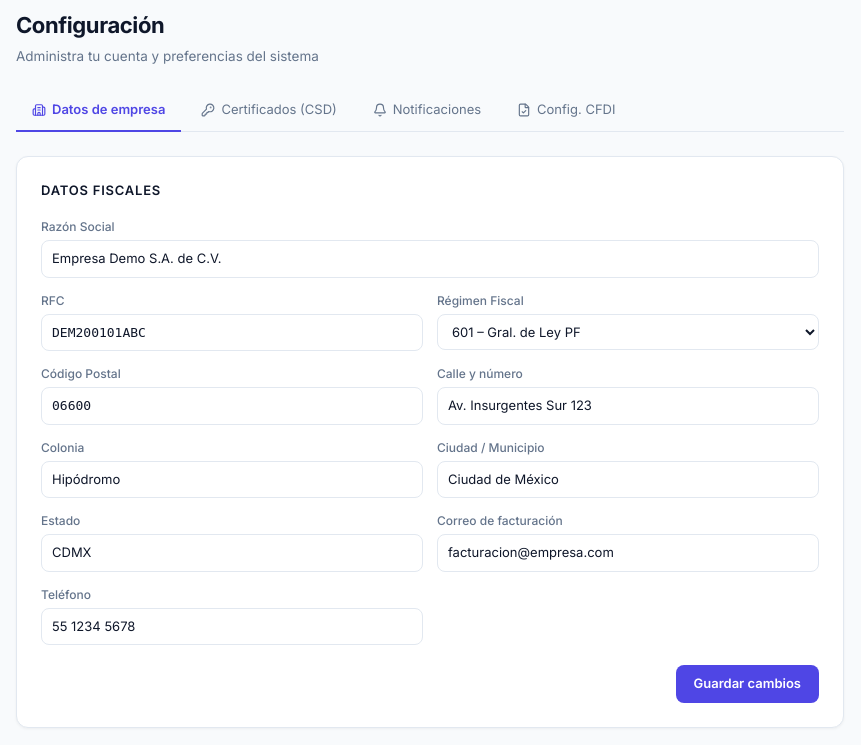
Test case: Configuracion - certificados › muestra el RFC real de la empresa y el badge "Sin certificado" cuando csdStatus es sin_registrar
Click the button "Certificados (CSD)" at (269, 111), box [185,90,353,132]
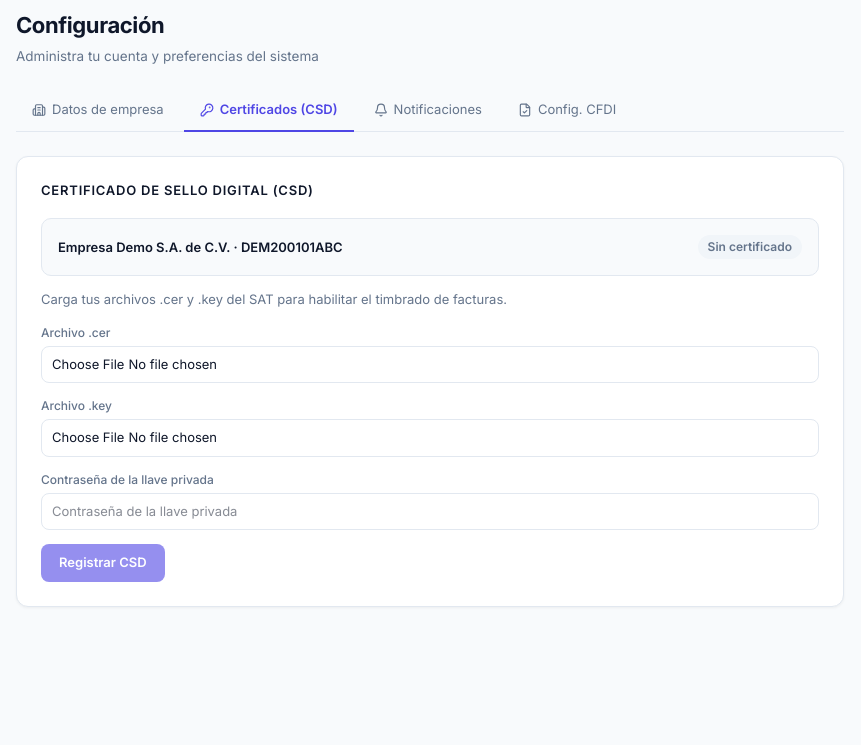
expect the text "Empresa Demo S.A. de C.V. · DEM200101ABC" is shown: met, box [58,238,343,257]
expect the text "Sin certificado" is shown: met, box [698,235,802,259]
